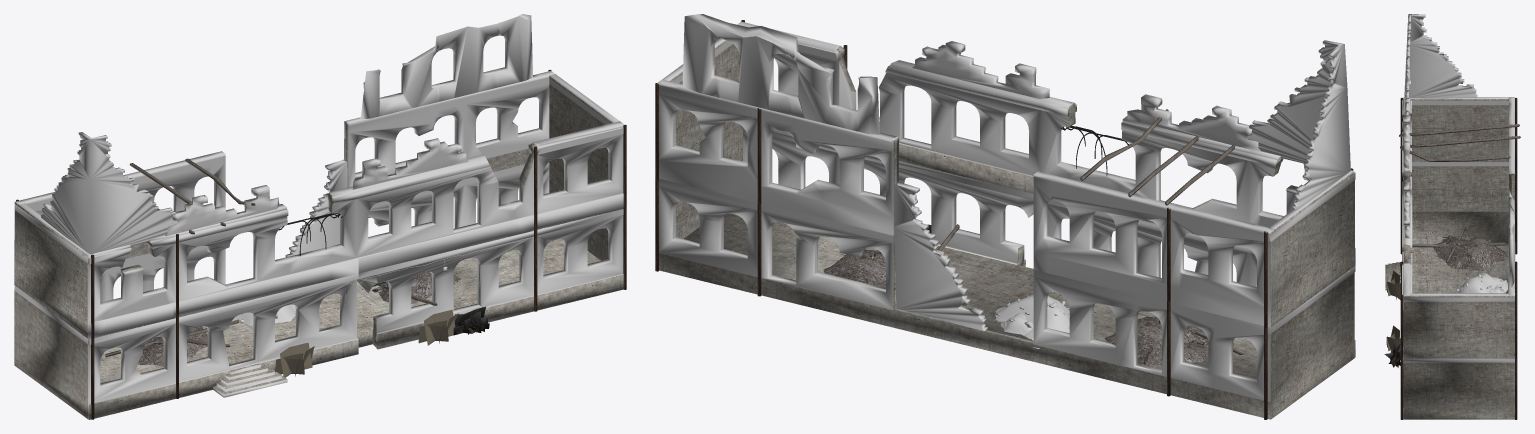
File: long house yellow_LOD0.fbx
The picture shows the model from 3 angles, left to right: view 1: azimuth 30°, elevation 25°; view 2: azimuth 150°, elevation 25°; view 3: azimuth 270°, elevation 25°; orthographic projection. The views are drawn at different scales.
Visible parts, largest first — view 1: long_house_yellow_LOD0; view 2: long_house_yellow_LOD0; view 3: long_house_yellow_LOD0.
Part boxes in pixels (x1,y1,x2,y2): long_house_yellow_LOD0: [14, 14, 626, 419]; long_house_yellow_LOD0: [655, 14, 1355, 419]; long_house_yellow_LOD0: [1384, 14, 1520, 419].
Bounding box in the file's own units: 25.36 × 12.52 × 7.37.
